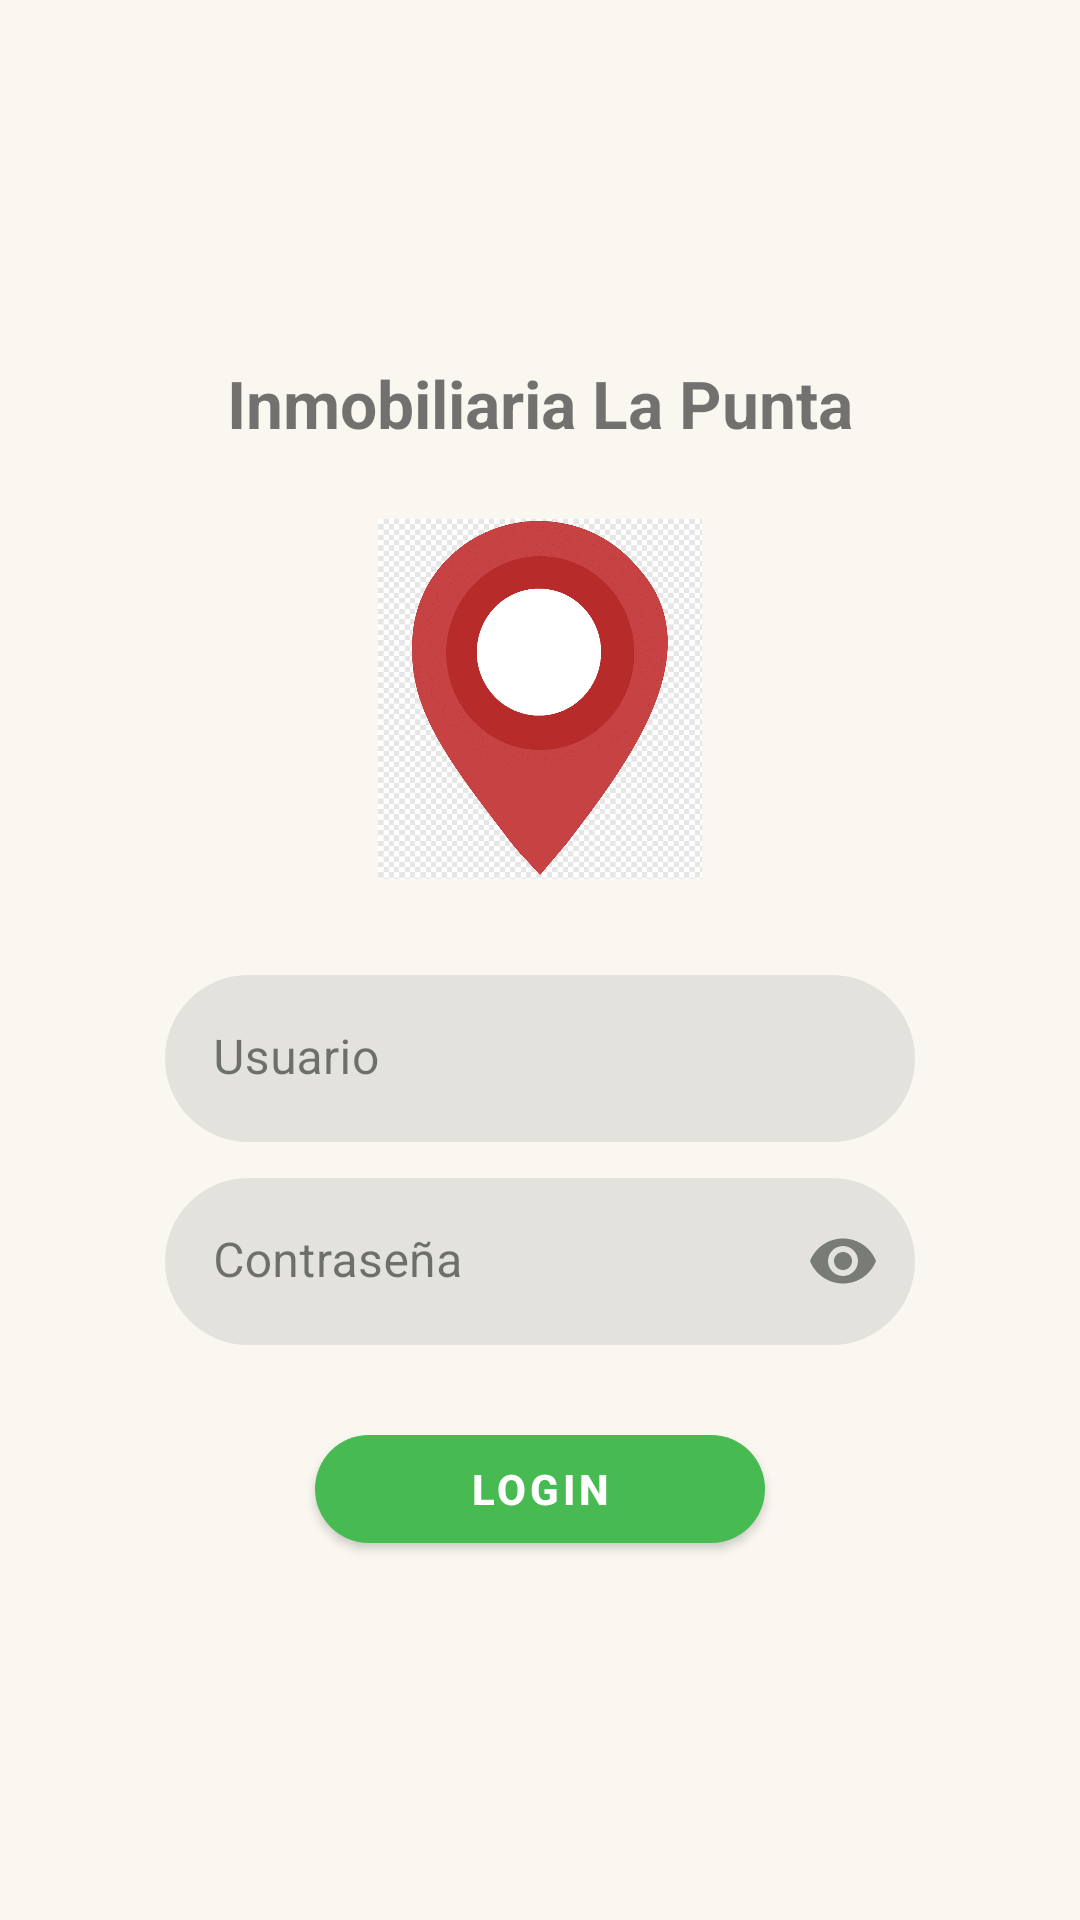

Point at icon controls on the screen. Image size 1080px x 1920px, points as [x,y].
ubic: [540,698]
